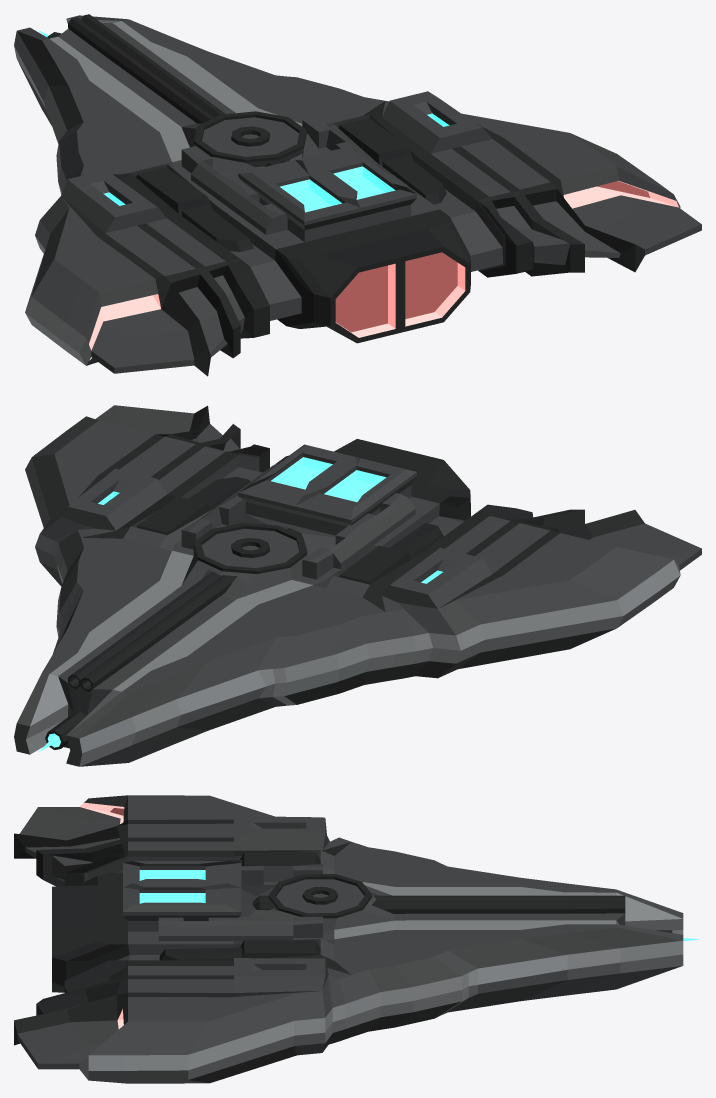
File: Troops_Frigate_LODGroup.fbx
The picture shows the model from 3 angles, top to bottom: view 1: azimuth 30°, elevation 25°; view 2: azimuth 150°, elevation 25°; view 3: azimuth 270°, elevation 25°; orthographic projection. The views are drawn at different scales.
Visible parts, largest first — view 1: Troops Frigate_LOD0; view 2: Troops Frigate_LOD0; view 3: Troops Frigate_LOD0.
Boxes of the visible parts, bbox=[...] form: Troops Frigate_LOD0: bbox=[14, 14, 701, 376]; Troops Frigate_LOD0: bbox=[14, 405, 701, 766]; Troops Frigate_LOD0: bbox=[14, 795, 701, 1083].
Size of what is drawn, in the model's own units: 2.76 by 0.4849 by 3.05.
